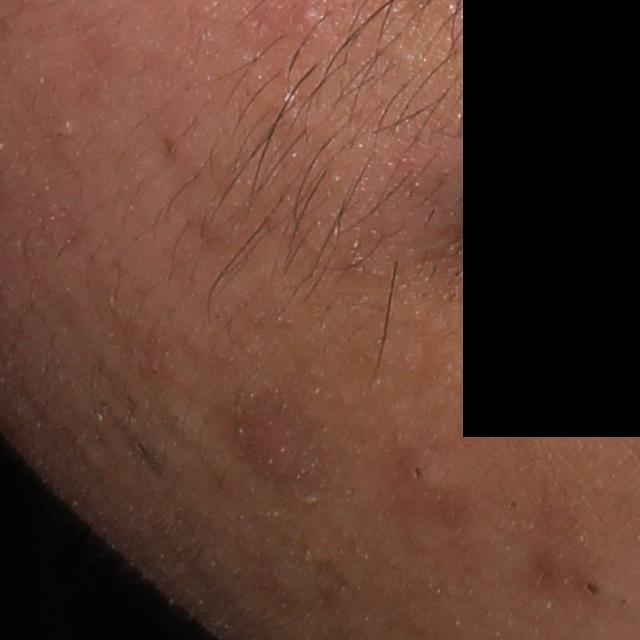comedo: (396, 443, 449, 497), (575, 565, 617, 604)
papule: (226, 407, 324, 503)
